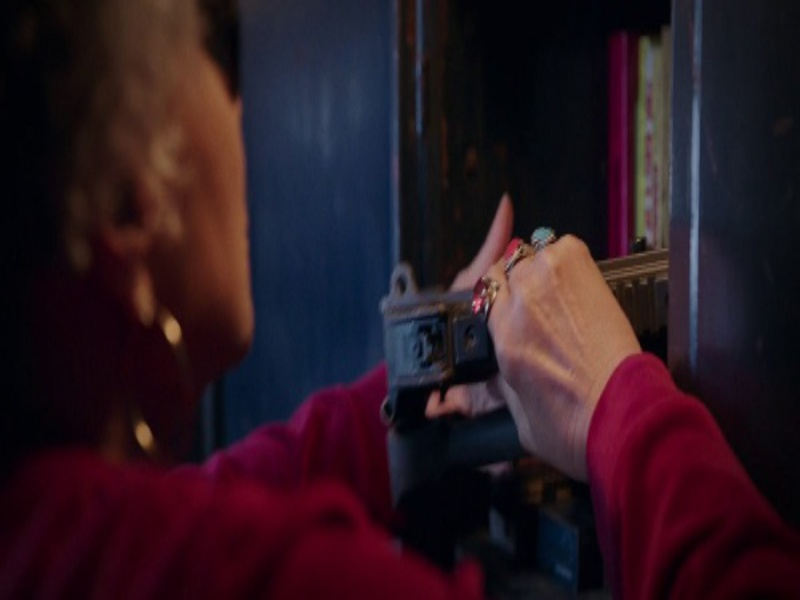person: (3, 1, 797, 596)
